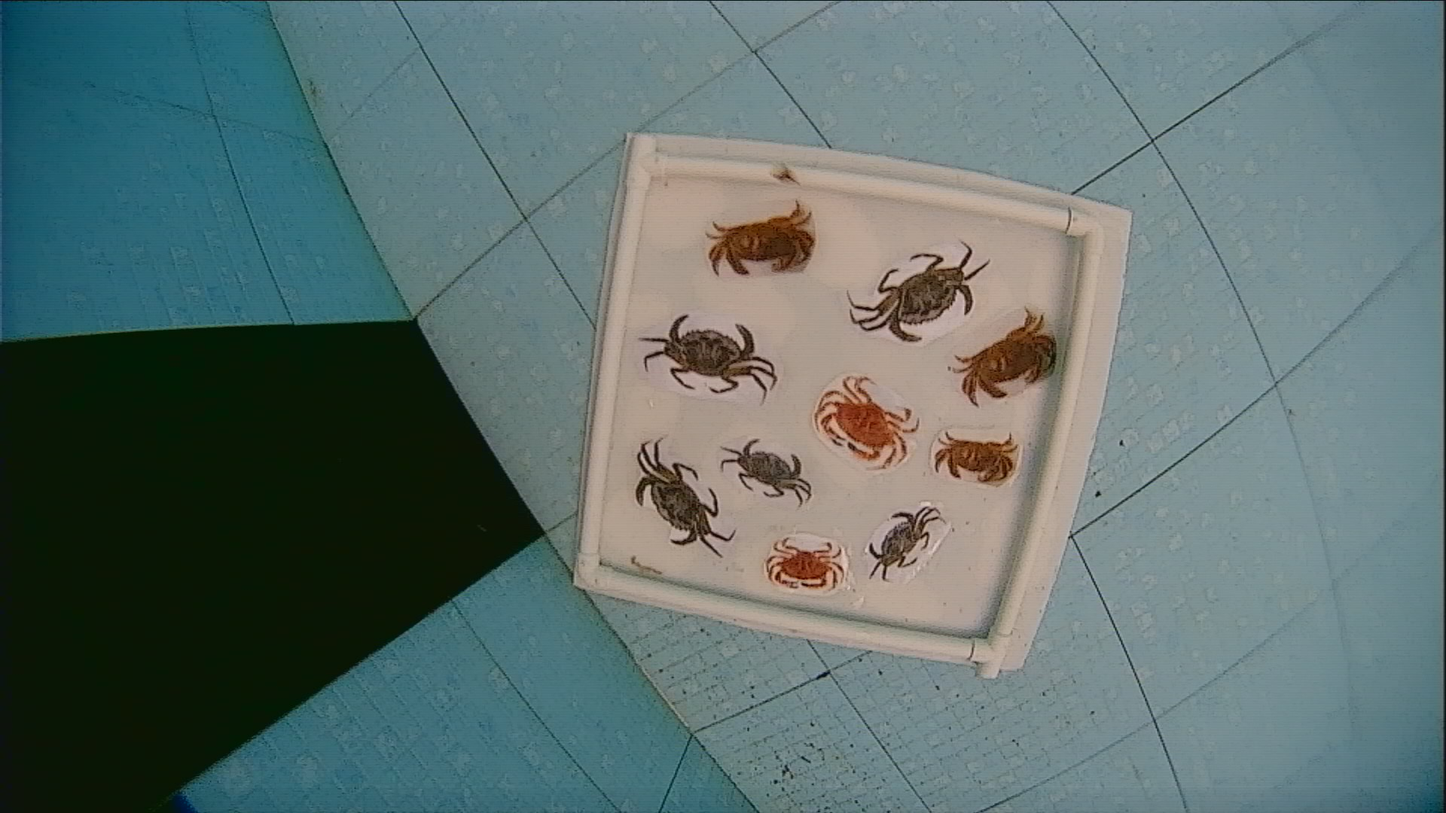GreenCrab: (847, 241, 989, 342), (640, 314, 776, 403), (635, 438, 735, 557), (720, 438, 810, 505), (867, 507, 942, 581)
